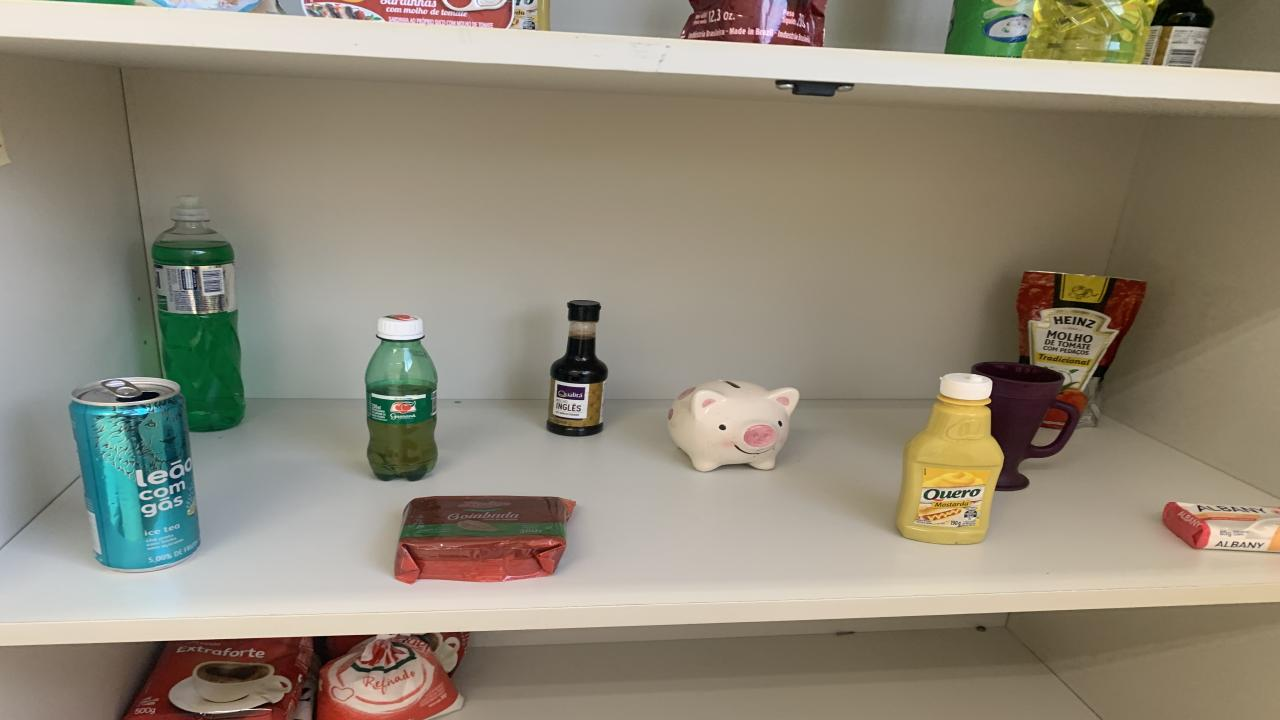Detergent-Cleanup_Items: (152, 197, 245, 431), (1022, 0, 1158, 64)
English_Sauce-Pantry_Items: (548, 302, 608, 437), (1142, 0, 1215, 68)
Guarana-Drinks: (365, 315, 438, 480)
Guava-Snacks: (395, 495, 575, 583)
Mustard-Pantry_Items: (895, 373, 1002, 544)
Pig_Safe-Miscellaneous: (668, 381, 800, 471)
Pringles-Snacks: (945, 0, 1035, 58)
Soap-Cleanup_Items: (1162, 502, 1280, 553)
Tea-Drinks: (70, 377, 200, 572)
Tomato_Sauce-Pantry_Items: (1018, 272, 1145, 428), (680, 0, 828, 47), (1042, 411, 1068, 429)
Tuna_Can-Pantry_Items: (300, 0, 550, 30)
